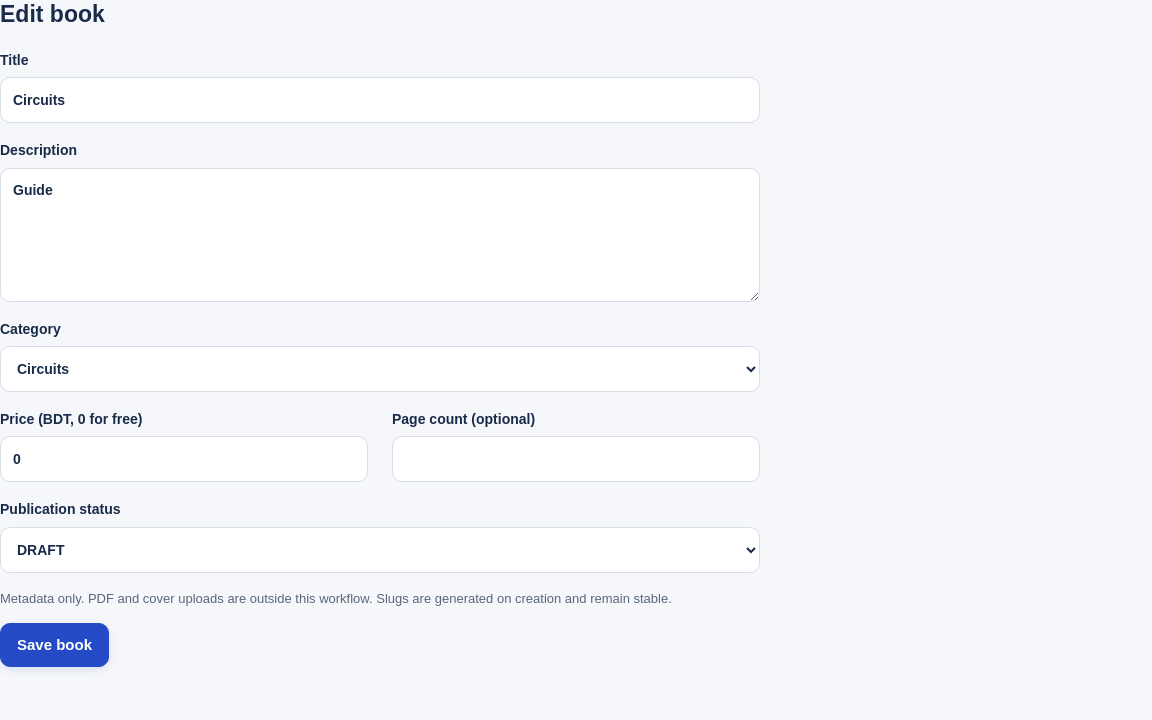
Test: admin workflows › publication change asks for confirmation
Select "PUBLISHED" in the dropdown labelled "Publication status" at (380, 550), box x1=0 y1=527 x2=760 y2=573
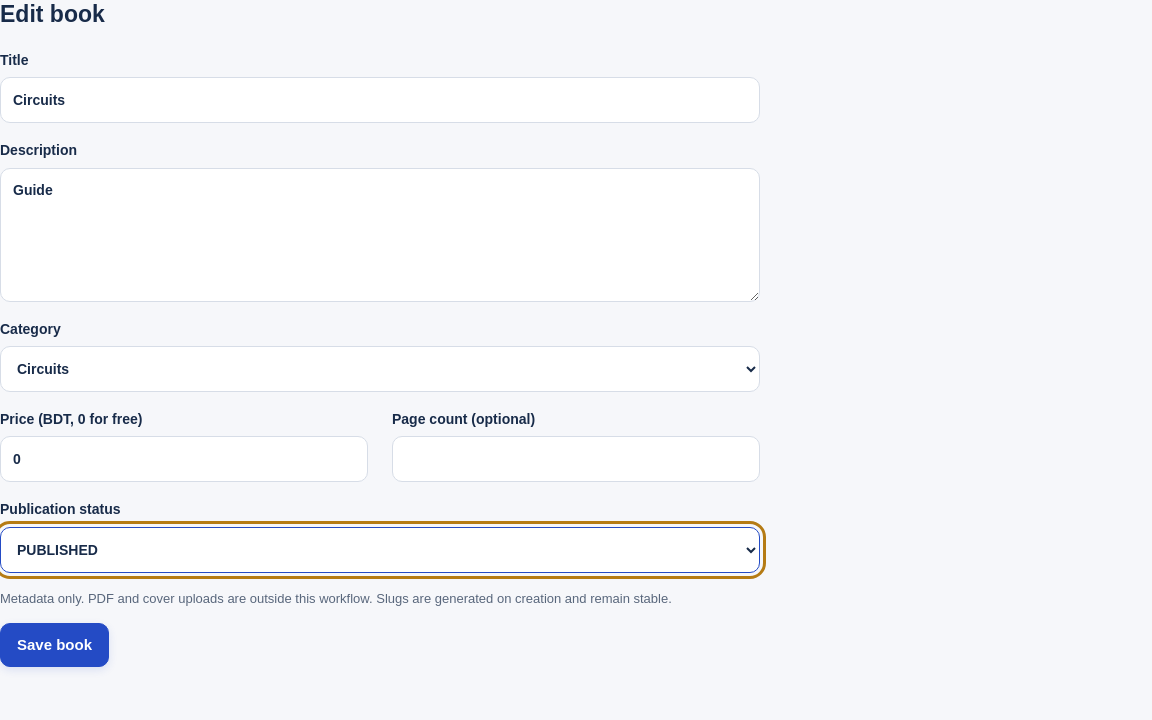
Click the button "Save book" at (54, 645), box x1=0 y1=623 x2=109 y2=667
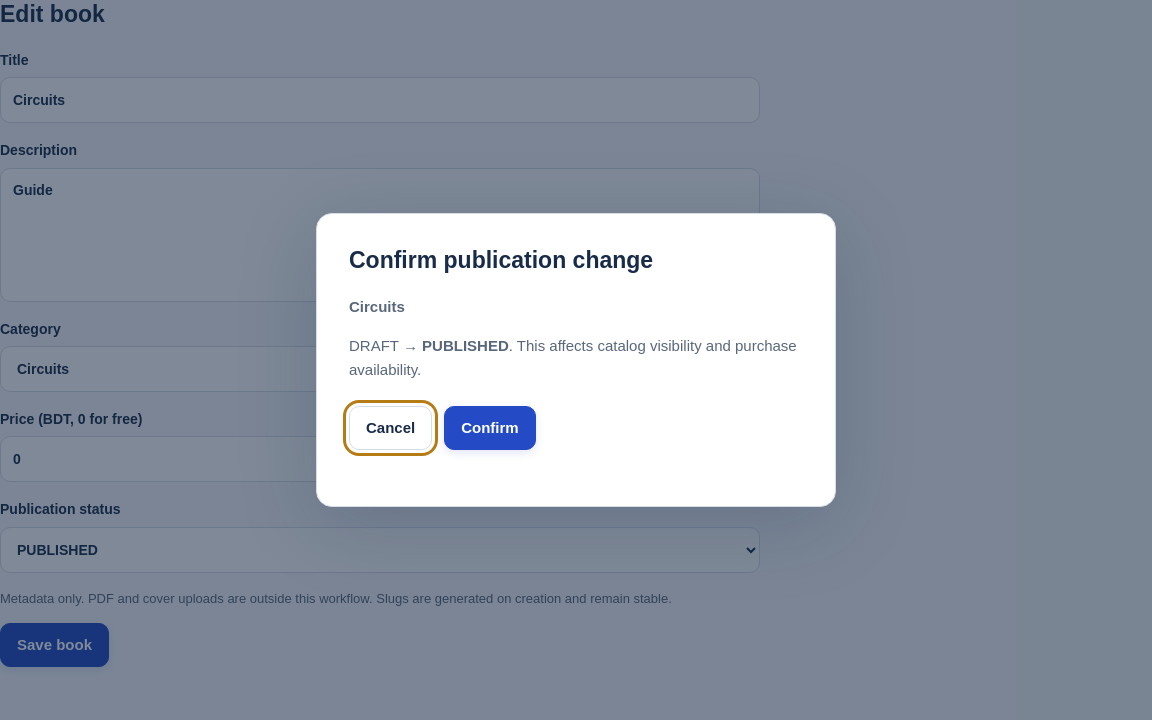
expect the dialog shows "Confirm publication change": met, box x1=349 y1=247 x2=653 y2=273
